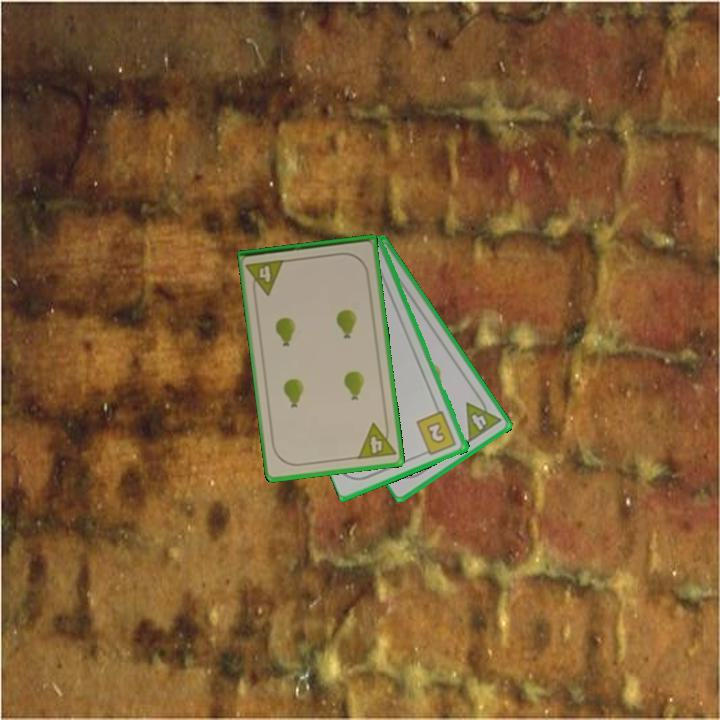2b: (413, 408, 459, 458)
4p: (462, 391, 504, 445), (354, 418, 399, 462), (244, 256, 288, 299)
